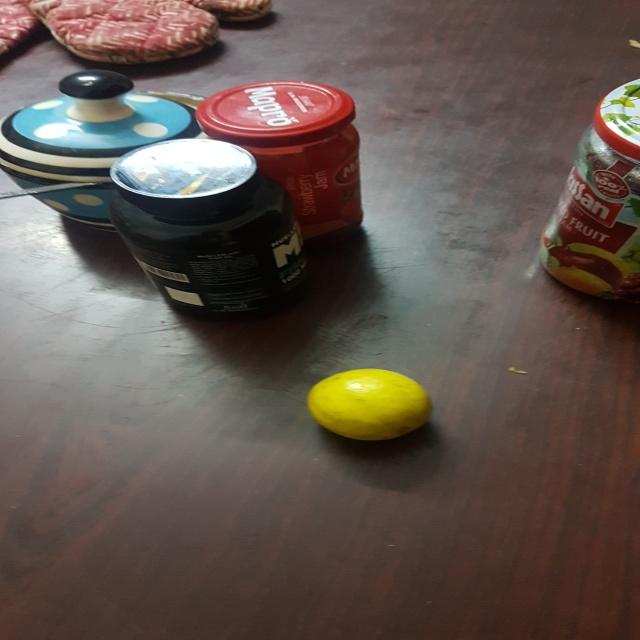lemon: (302, 360, 445, 451)
